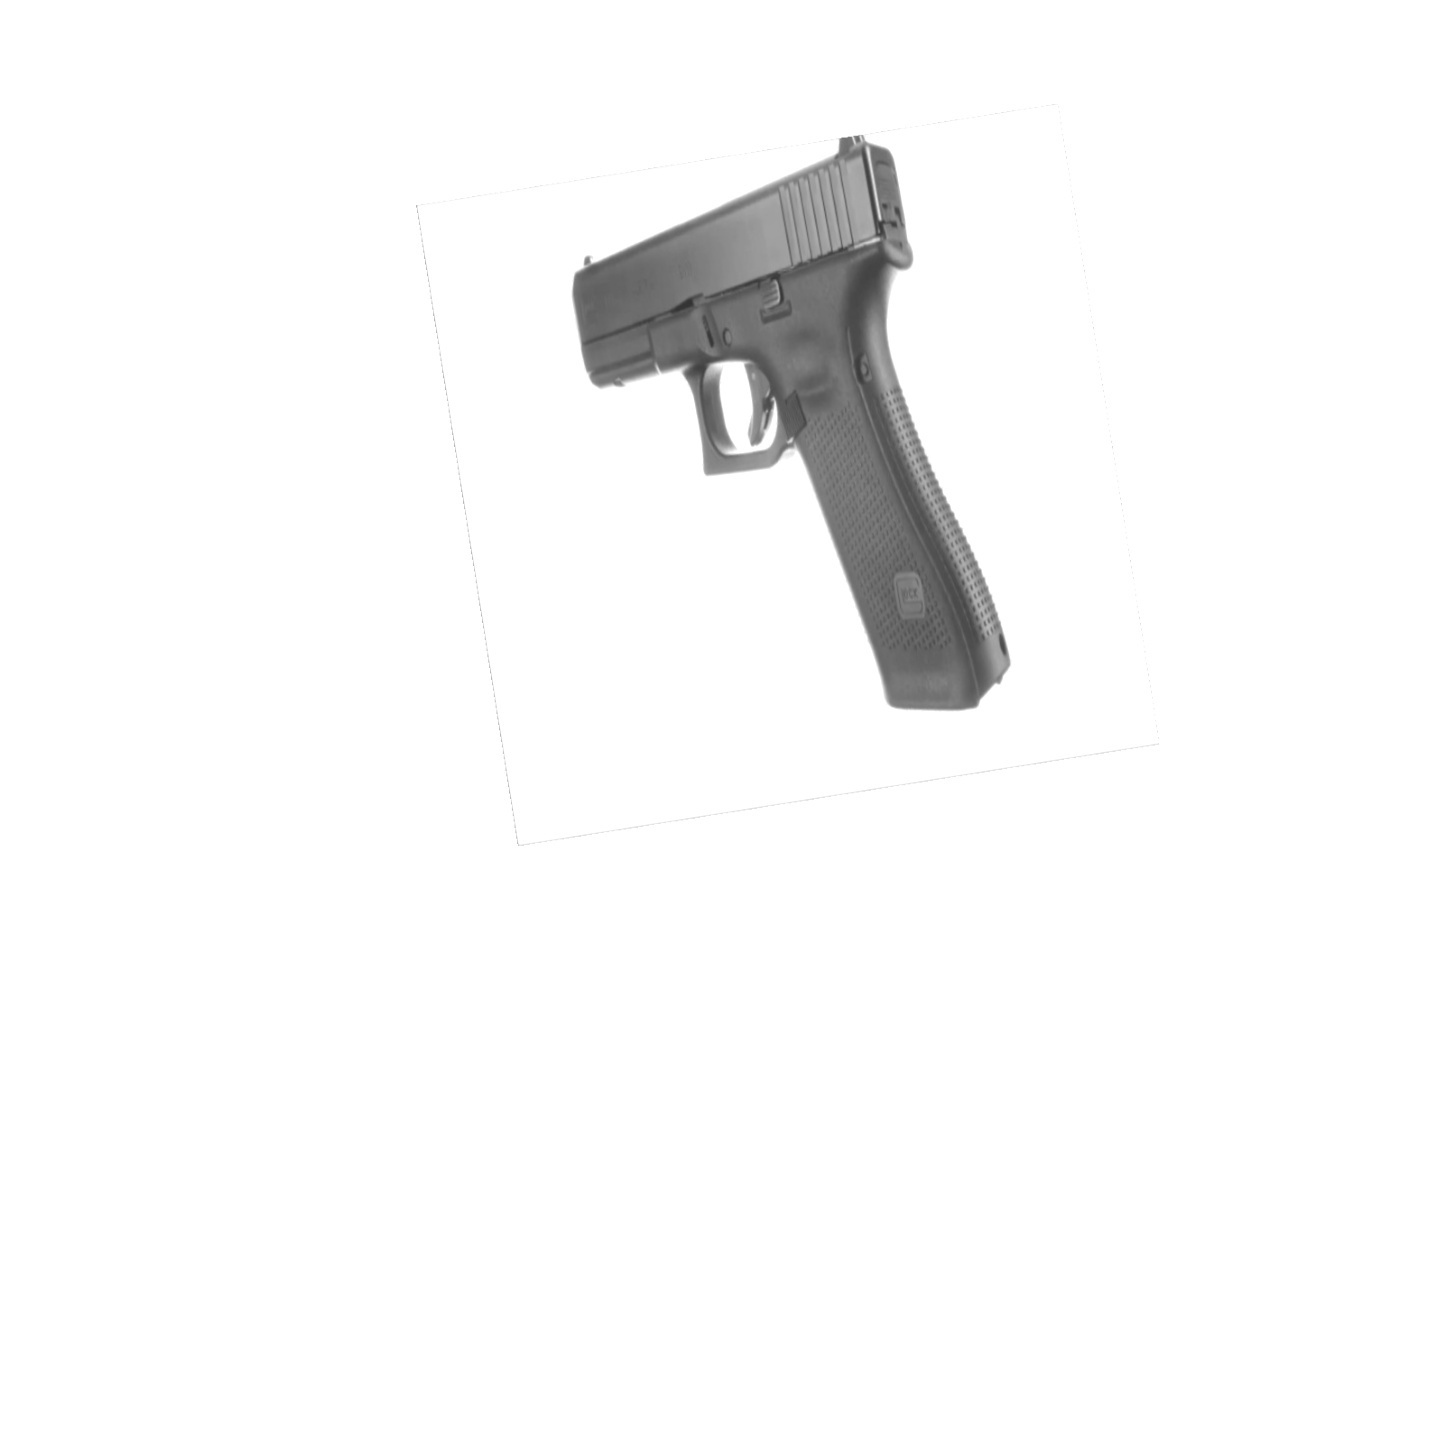gun: (572, 134, 1013, 712)
